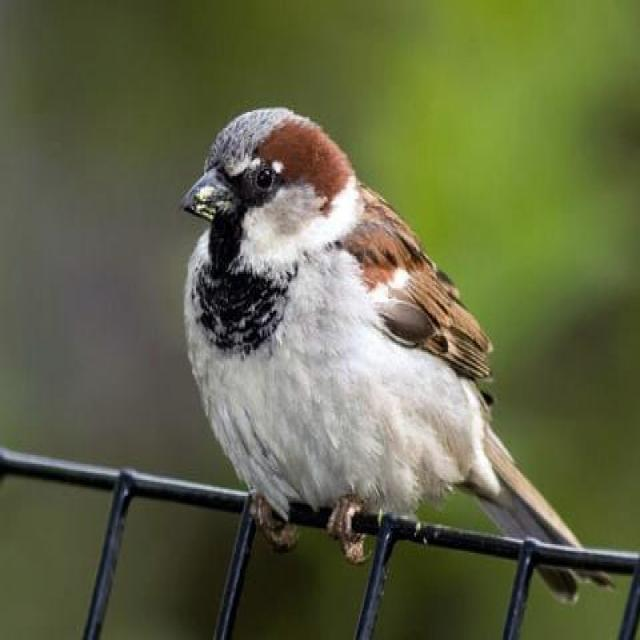sparrow: (184, 107, 580, 562)
